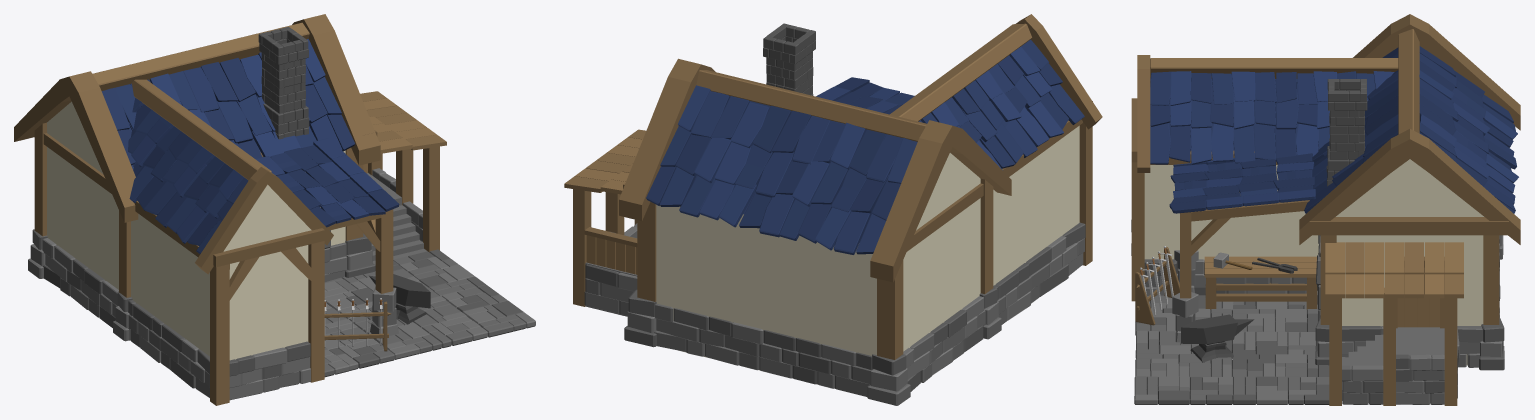
Rendered from Blacksmith1.fbx.
3 renders of one model, left to right at view 1: azimuth 30°, elevation 25°; view 2: azimuth 150°, elevation 25°; view 3: azimuth 270°, elevation 25°, orthographic. The views are drawn at different scales.
Parts seen in each view (by area): view 1: Cube.341, Cube.351, Cube.365, Cube.292, Cube, Cube.286, Cube.023, Plane.002, Cube.263, Cube.264, Cube.293, Cube.049 (+11 smaller); view 2: Cube, Cube.351, Cube.292, Cube.365, Cube.341, Cube.263, Cube.264, Plane.002, Cube.049, Cube.279, Cube.293, Cube.286 (+23 smaller); view 3: Cube.365, Cube.351, Cube.292, Cube, Cube.049, Cube.341, Cube.286, Cube.264, Cube.038, Plane.002, Cube.147, Cube.001 (+28 smaller).
Part boxes in pixels (box(x1,y1,x2,y2)): Cube.341: box(131, 165, 311, 360); Cube.351: box(102, 39, 354, 169); Cube.365: box(128, 98, 248, 253); Cube.292: box(14, 14, 380, 222); Cube: box(47, 94, 345, 289); Cube.286: box(255, 138, 399, 227); Cube.023: box(210, 241, 324, 405); Plane.002: box(258, 26, 309, 139); Cube.263: box(92, 22, 309, 90); Cube.264: box(132, 79, 271, 180); Cube.293: box(195, 167, 333, 274); Cube.049: box(360, 91, 446, 153); Cube: box(656, 96, 980, 388); Cube.351: box(646, 85, 917, 254); Cube.292: box(619, 58, 1011, 282); Cube.365: box(919, 39, 1084, 170); Cube.341: box(979, 106, 1079, 285); Cube.263: box(696, 70, 926, 141); Cube.264: box(890, 23, 1031, 121); Plane.002: box(763, 23, 815, 95); Cube.049: box(564, 129, 645, 194); Cube.279: box(877, 260, 903, 359); Cube.293: box(1016, 14, 1102, 129); Cube.286: box(816, 77, 914, 114); Cube.365: box(1150, 71, 1394, 164); Cube.351: box(1304, 46, 1518, 213); Cube.292: box(1299, 14, 1520, 244); Cube: box(1336, 159, 1483, 365); Cube.049: box(1325, 242, 1463, 298); Cube.341: box(1144, 78, 1318, 259); Cube.286: box(1169, 150, 1315, 213); Cube.264: box(1150, 58, 1398, 78); Cube.038: box(1309, 217, 1508, 235); Plane.002: box(1326, 79, 1367, 186); Cube.147: box(1342, 327, 1444, 400); Cube.001: box(1320, 235, 1499, 324).
Size of the model in its own units: 726 by 507 by 720.
